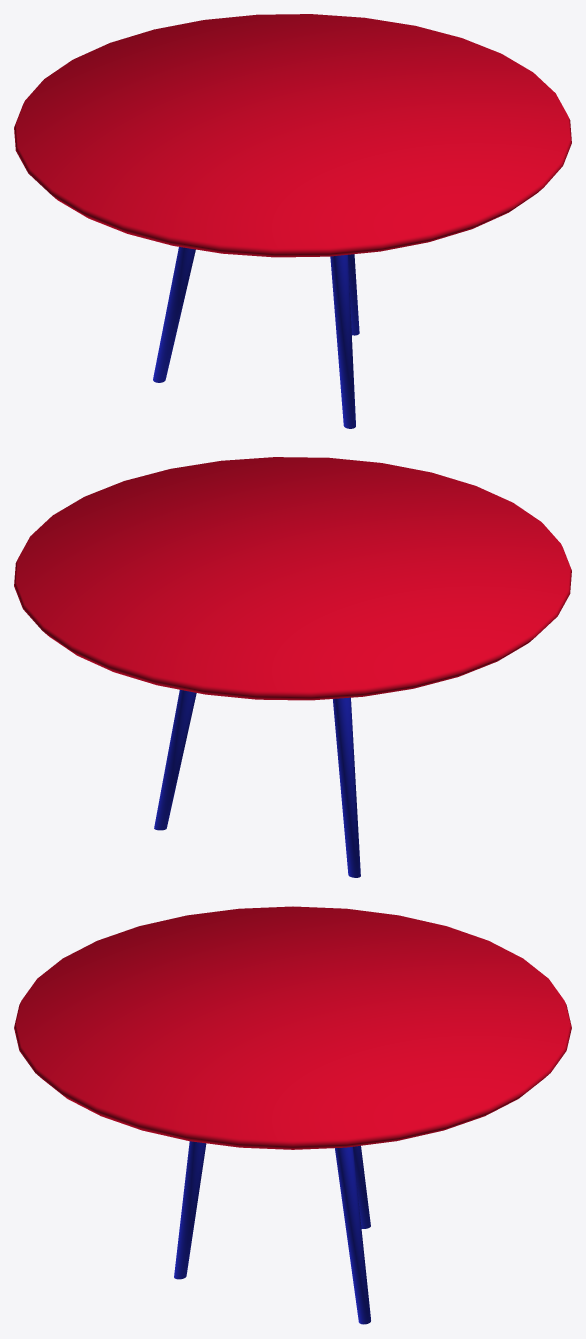
The model's file is DiningTable.fbx.
3 views of the same model, one above another, from view 1: azimuth 30°, elevation 25°; view 2: azimuth 150°, elevation 25°; view 3: azimuth 270°, elevation 25° (orthographic).
Visible parts, largest first — view 1: Cylinder.001; view 2: Cylinder.001; view 3: Cylinder.001.
Boxes of the visible parts, x1,y1,x2,y2 form: Cylinder.001: (14, 14, 571, 428); Cylinder.001: (14, 457, 571, 877); Cylinder.001: (14, 906, 571, 1324).
Size of the model in its own units: 173 by 86.83 by 173.
